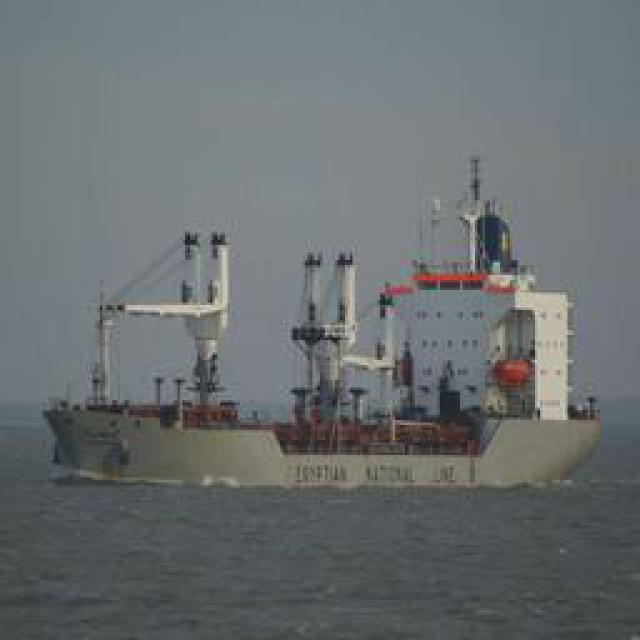Ship: (69, 400, 599, 490)
